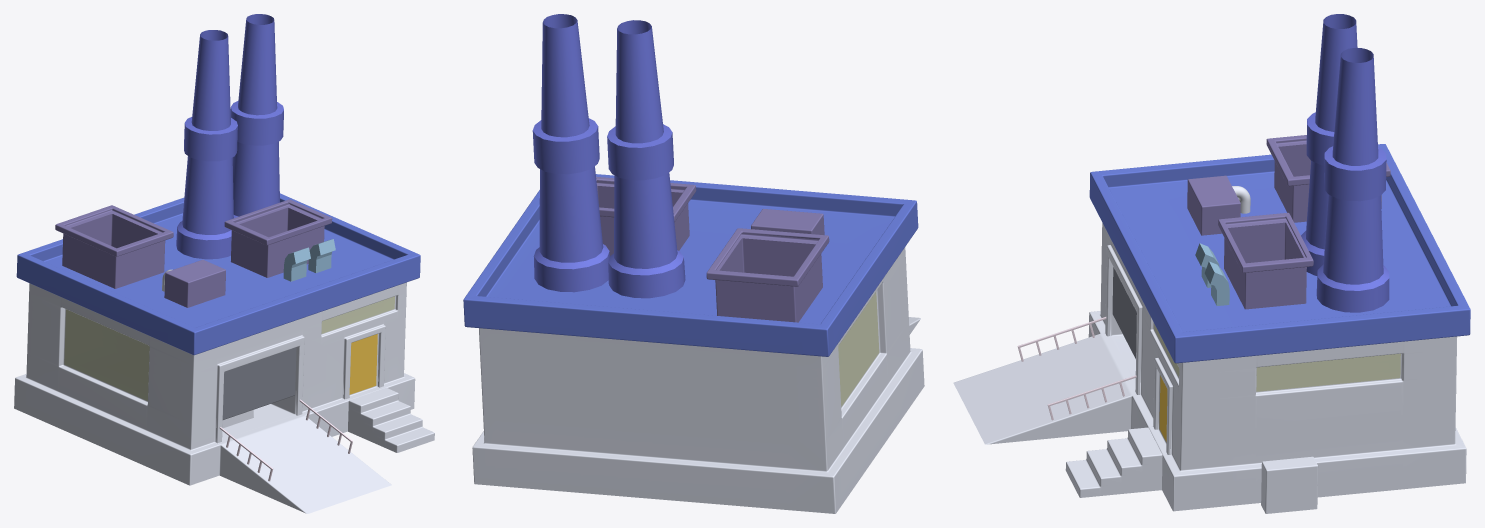
The model's file is Factory.glb.
The picture shows the model from 3 angles, left to right: view 1: azimuth 30°, elevation 25°; view 2: azimuth 150°, elevation 25°; view 3: azimuth 270°, elevation 25°; orthographic projection. The views are drawn at different scales.
Visible parts, largest first — view 1: Factory; view 2: Factory; view 3: Factory.
Part boxes in pixels (x1,y1,x2,y2): Factory: (14, 14, 434, 513); Factory: (463, 14, 924, 513); Factory: (953, 14, 1470, 513).
Bounding box in the file's own units: 3.14 × 3.35 × 3.75.
